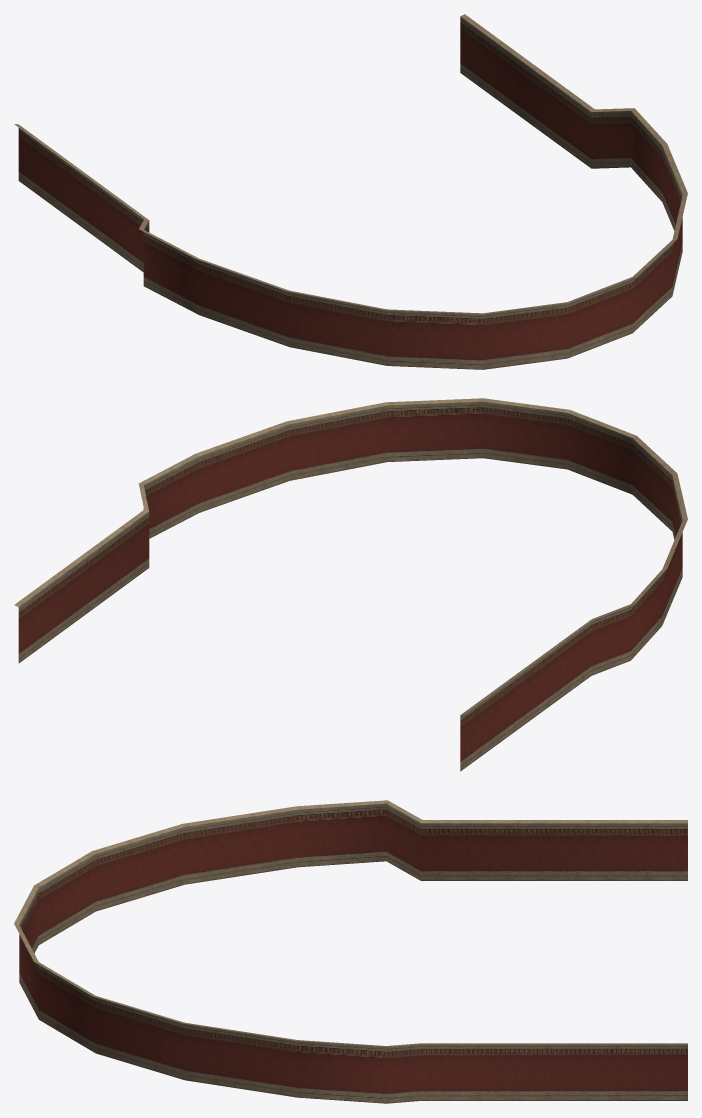
Rendered from Wall01_Maincity_003.FBX.
3 renders of one model, top to bottom at view 1: azimuth 30°, elevation 25°; view 2: azimuth 150°, elevation 25°; view 3: azimuth 270°, elevation 25°, orthographic.
Parts seen in each view (by area): view 1: Wall01_Maincity_003; view 2: Wall01_Maincity_003; view 3: Wall01_Maincity_003.
Part boxes in pixels (x1,y1,x2,y2): Wall01_Maincity_003: (14, 14, 687, 369); Wall01_Maincity_003: (14, 398, 687, 771); Wall01_Maincity_003: (14, 800, 687, 1103).
Bounding box in the file's own units: 2200 × 280 × 2540.
Materials: 1 (1 with a texture image).
